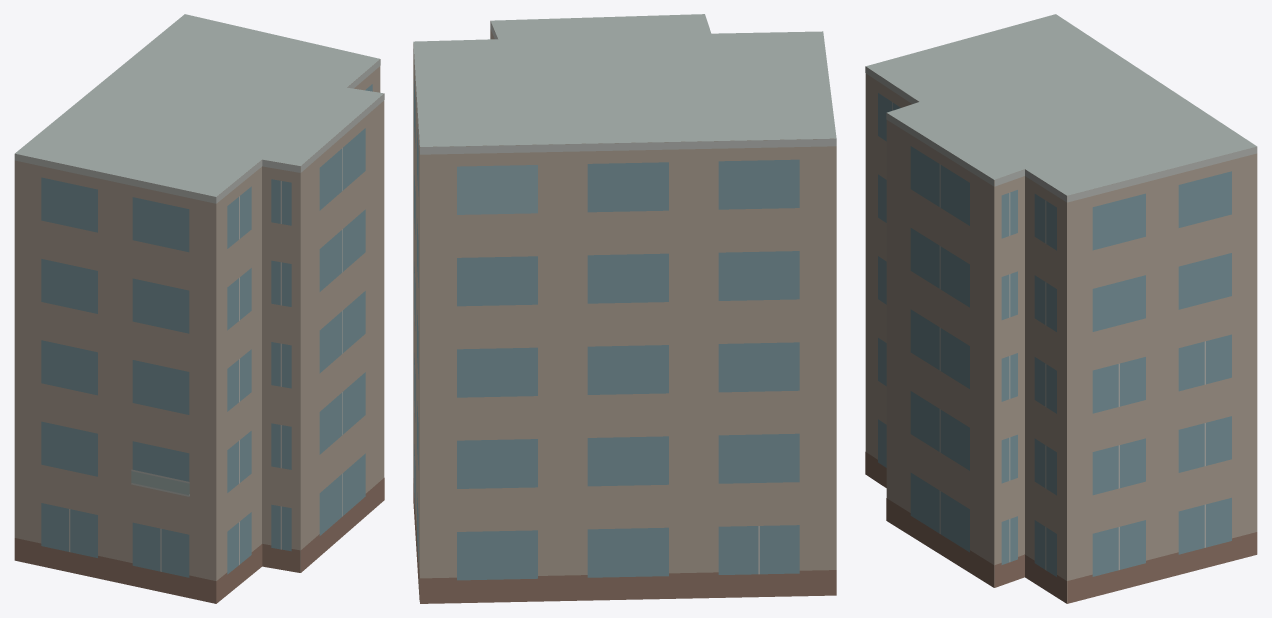
File: survey-upis-32887573.glb
3 views of the same model, side by side, from view 1: azimuth 30°, elevation 25°; view 2: azimuth 150°, elevation 25°; view 3: azimuth 270°, elevation 25° (orthographic). The views are drawn at different scales.
Visible parts, largest first — view 1: survey-upis-32887573.tmp; view 2: survey-upis-32887573.tmp; view 3: survey-upis-32887573.tmp.
Part boxes in pixels (left/top/right/bottom): survey-upis-32887573.tmp: left=14, top=14, right=384, bottom=603; survey-upis-32887573.tmp: left=413, top=14, right=836, bottom=603; survey-upis-32887573.tmp: left=865, top=14, right=1257, bottom=603.
Bounding box in the file's own units: 13.91 × 14.55 × 12.67.
